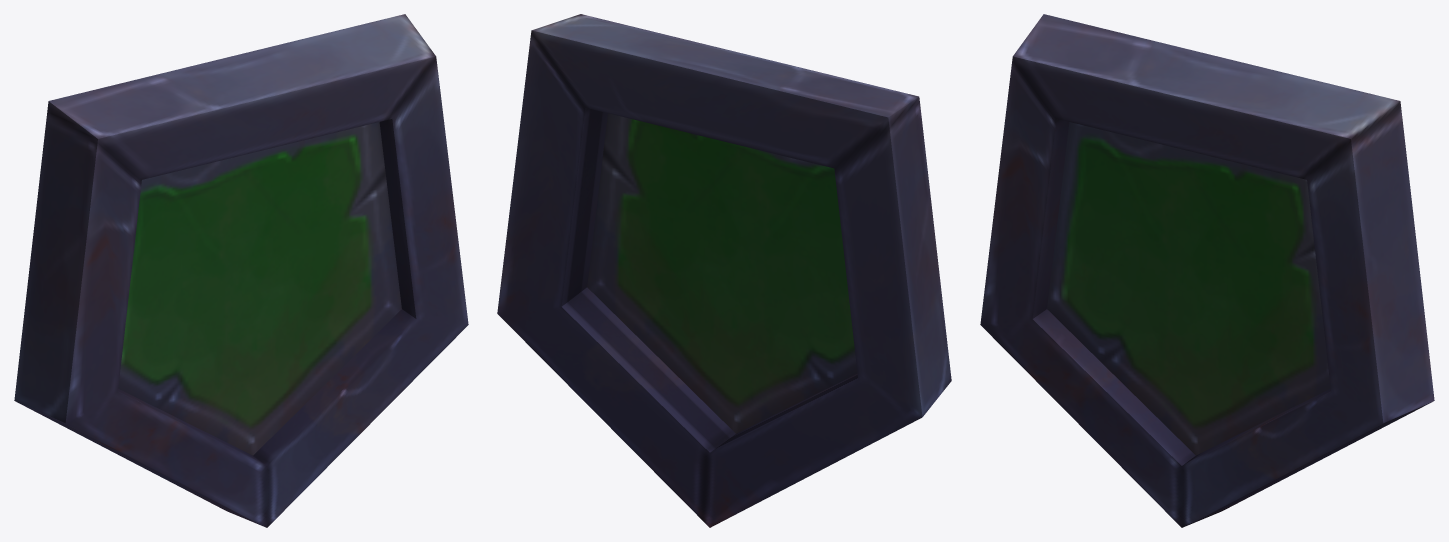
The model's file is armor_green_03.fbx.
3 renders of one model, left to right at view 1: azimuth 30°, elevation 25°; view 2: azimuth 150°, elevation 25°; view 3: azimuth 330°, elevation 25°, orthographic.
Visible parts, largest first — view 1: armor_green_03; view 2: armor_green_03; view 3: armor_green_03.
Part boxes in pixels (left/top/right/bottom): armor_green_03: left=14, top=14, right=468, bottom=527; armor_green_03: left=497, top=14, right=951, bottom=527; armor_green_03: left=980, top=14, right=1434, bottom=527.
Bounding box in the file's own units: 0.6586 × 0.672 × 0.108.
